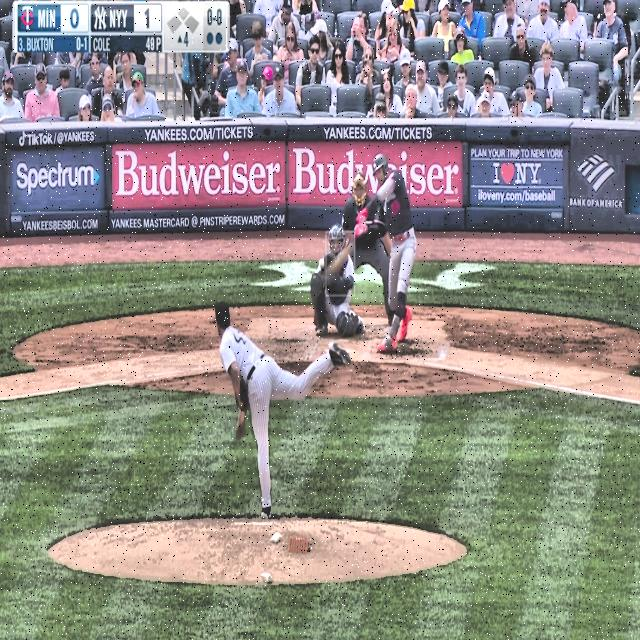baseball: (318, 257, 326, 269)
